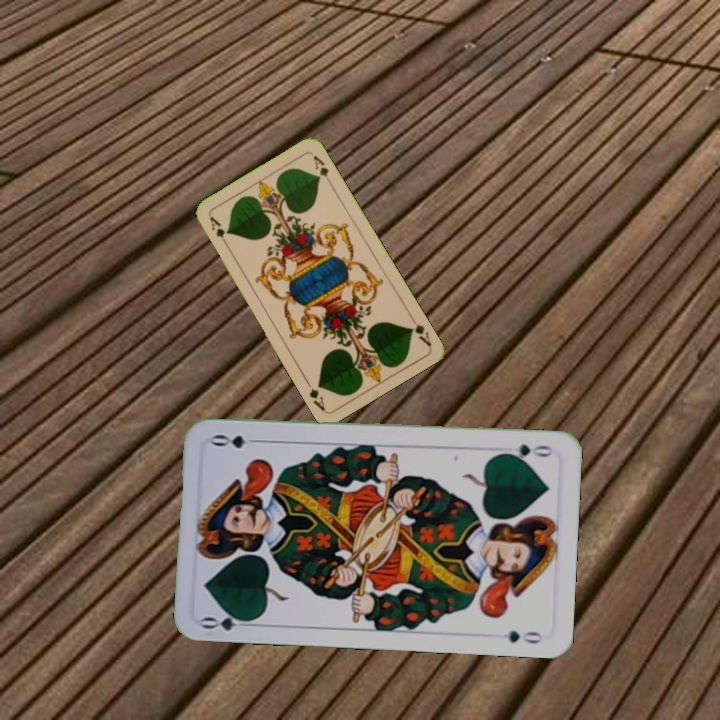GA: (406, 312, 434, 348), (206, 212, 231, 249)
GO: (198, 607, 257, 633), (497, 439, 555, 463)
